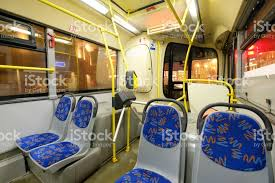seat: (15, 124, 67, 151)
